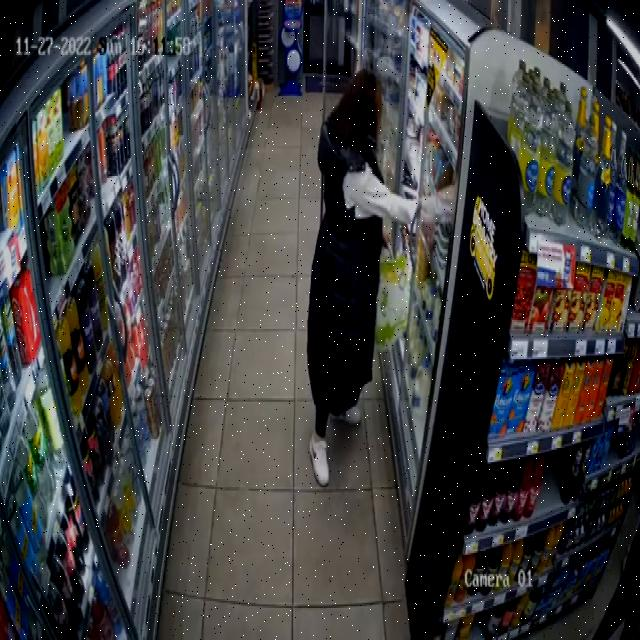bags: (374, 249, 409, 348)
person: (307, 69, 416, 485)
